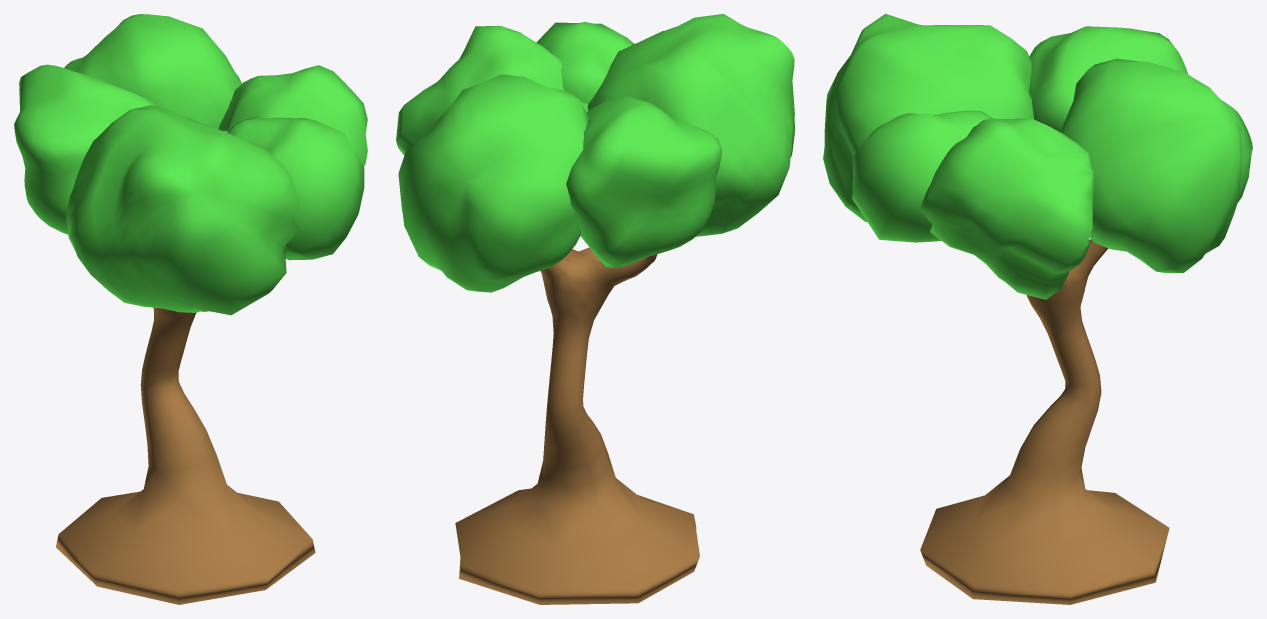
File: avorevivinha.fbx
3 views of the same model, side by side, from view 1: azimuth 30°, elevation 25°; view 2: azimuth 150°, elevation 25°; view 3: azimuth 270°, elevation 25° (orthographic). The views are drawn at different scales.
Visible parts, largest first — view 1: folhasdearvore1, Vert, folhasdearvore4, folhasdearvore5, folhasdearvore2, folhasdearvore0; view 2: Vert, folhasdearvore5, folhasdearvore1, folhasdearvore4, folhasdearvore0, folhasdearvore2; view 3: Vert, folhasdearvore5, folhasdearvore0, folhasdearvore1, folhasdearvore2, folhasdearvore4.
Part boxes in pixels (left/top/right/bottom): folhasdearvore1: left=66, top=105, right=299, bottom=315; Vert: left=56, top=307, right=315, bottom=604; folhasdearvore4: left=14, top=64, right=157, bottom=234; folhasdearvore5: left=64, top=14, right=241, bottom=128; folhasdearvore2: left=227, top=117, right=364, bottom=260; folhasdearvore0: left=218, top=65, right=367, bottom=166; Vert: left=455, top=247, right=699, bottom=604; folhasdearvore5: left=398, top=74, right=588, bottom=292; folhasdearvore1: left=587, top=14, right=794, bottom=236; folhasdearvore4: left=566, top=97, right=722, bottom=267; folhasdearvore0: left=396, top=25, right=564, bottom=155; folhasdearvore2: left=536, top=22, right=633, bottom=103; Vert: left=920, top=239, right=1169, bottom=604; folhasdearvore5: left=1060, top=58, right=1252, bottom=272; folhasdearvore0: left=919, top=118, right=1094, bottom=299; folhasdearvore1: left=823, top=14, right=1034, bottom=221; folhasdearvore2: left=852, top=110, right=992, bottom=242; folhasdearvore4: left=1029, top=26, right=1187, bottom=131.
Size of the model in its own units: 1311 by 1944 by 1515.
